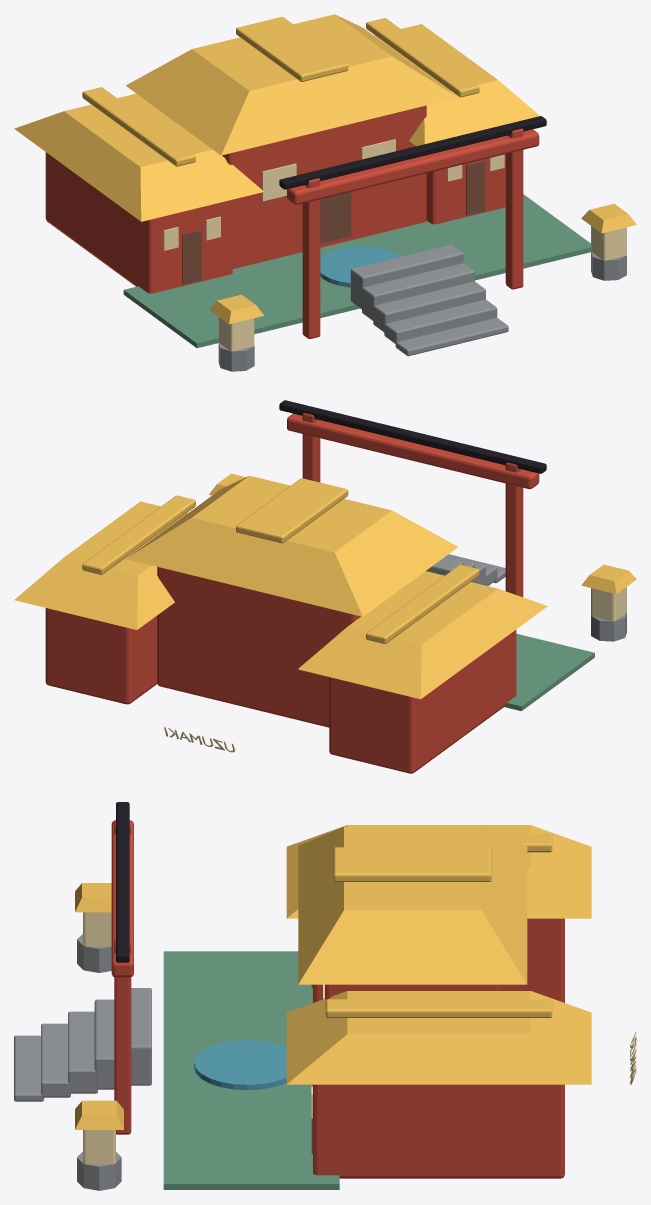
File: 02_uzumaki.glb
3 views of the same model, one above another, from view 1: azimuth 30°, elevation 25°; view 2: azimuth 150°, elevation 25°; view 3: azimuth 270°, elevation 25° (orthographic). The views are drawn at different scales.
Visible parts, largest first — view 1: main_body; view 2: main_body; view 3: main_body.
Part boxes in pixels (x1,y1,x2,y2): main_body: [14, 14, 636, 371]; main_body: [14, 400, 636, 773]; main_body: [14, 802, 591, 1190].
Size of the model in its own units: 10.6 by 4.42 by 11.7.
